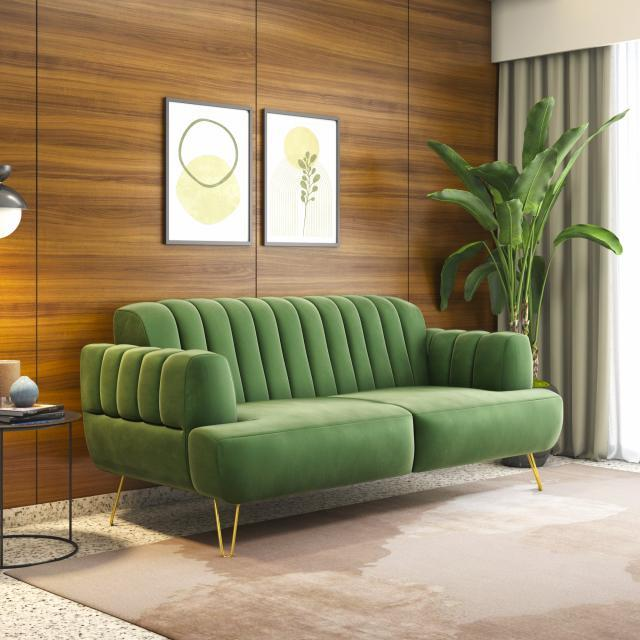sofa: (79, 292, 564, 557)
